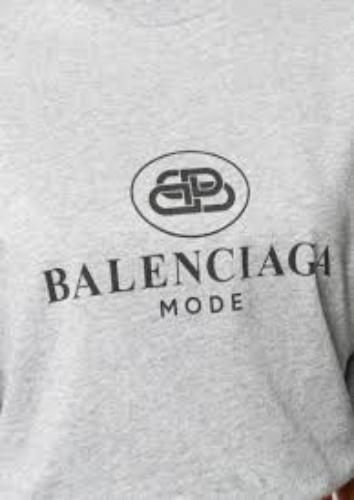BALENCIAGA: (47, 241, 330, 301), (149, 164, 235, 216)
